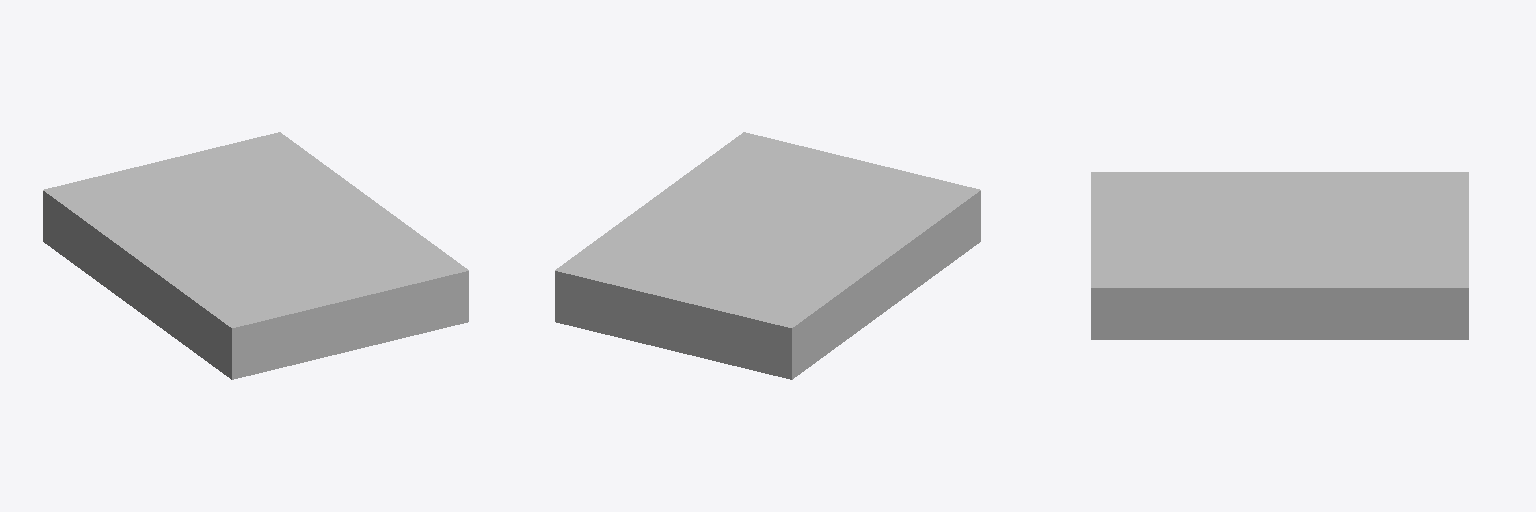
File: PaperStack.obj
The picture shows the model from 3 angles: view 1: azimuth 30°, elevation 25°; view 2: azimuth 150°, elevation 25°; view 3: azimuth 270°, elevation 25°; orthographic projection.
Visible parts, largest first — view 1: paperStack_Cube.003; view 2: paperStack_Cube.003; view 3: paperStack_Cube.003.
Part boxes in pixels (bbox=[...]): paperStack_Cube.003: bbox=[43, 132, 468, 379]; paperStack_Cube.003: bbox=[555, 132, 980, 379]; paperStack_Cube.003: bbox=[1091, 172, 1468, 339].
Bounding box in the file's own units: 2.9 × 0.6 × 4.